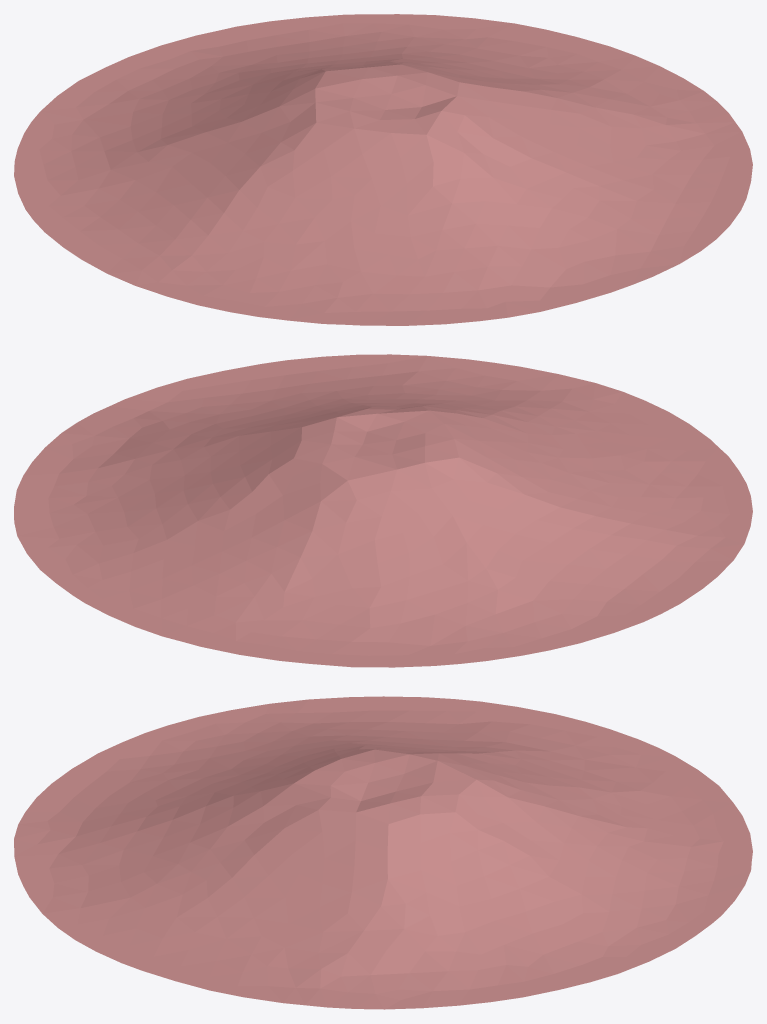
The model's file is level_0.glb.
3 renders of one model, top to bottom at view 1: azimuth 30°, elevation 25°; view 2: azimuth 150°, elevation 25°; view 3: azimuth 270°, elevation 25°, orthographic.
Visible parts, largest first — view 1: world; view 2: world; view 3: world.
Part boxes in pixels (x1,y1,x2,y2): world: (14, 14, 752, 325); world: (14, 354, 752, 667); world: (14, 696, 752, 1009).
Size of the model in its own units: 0.6305 by 0.0682 by 0.6291.
